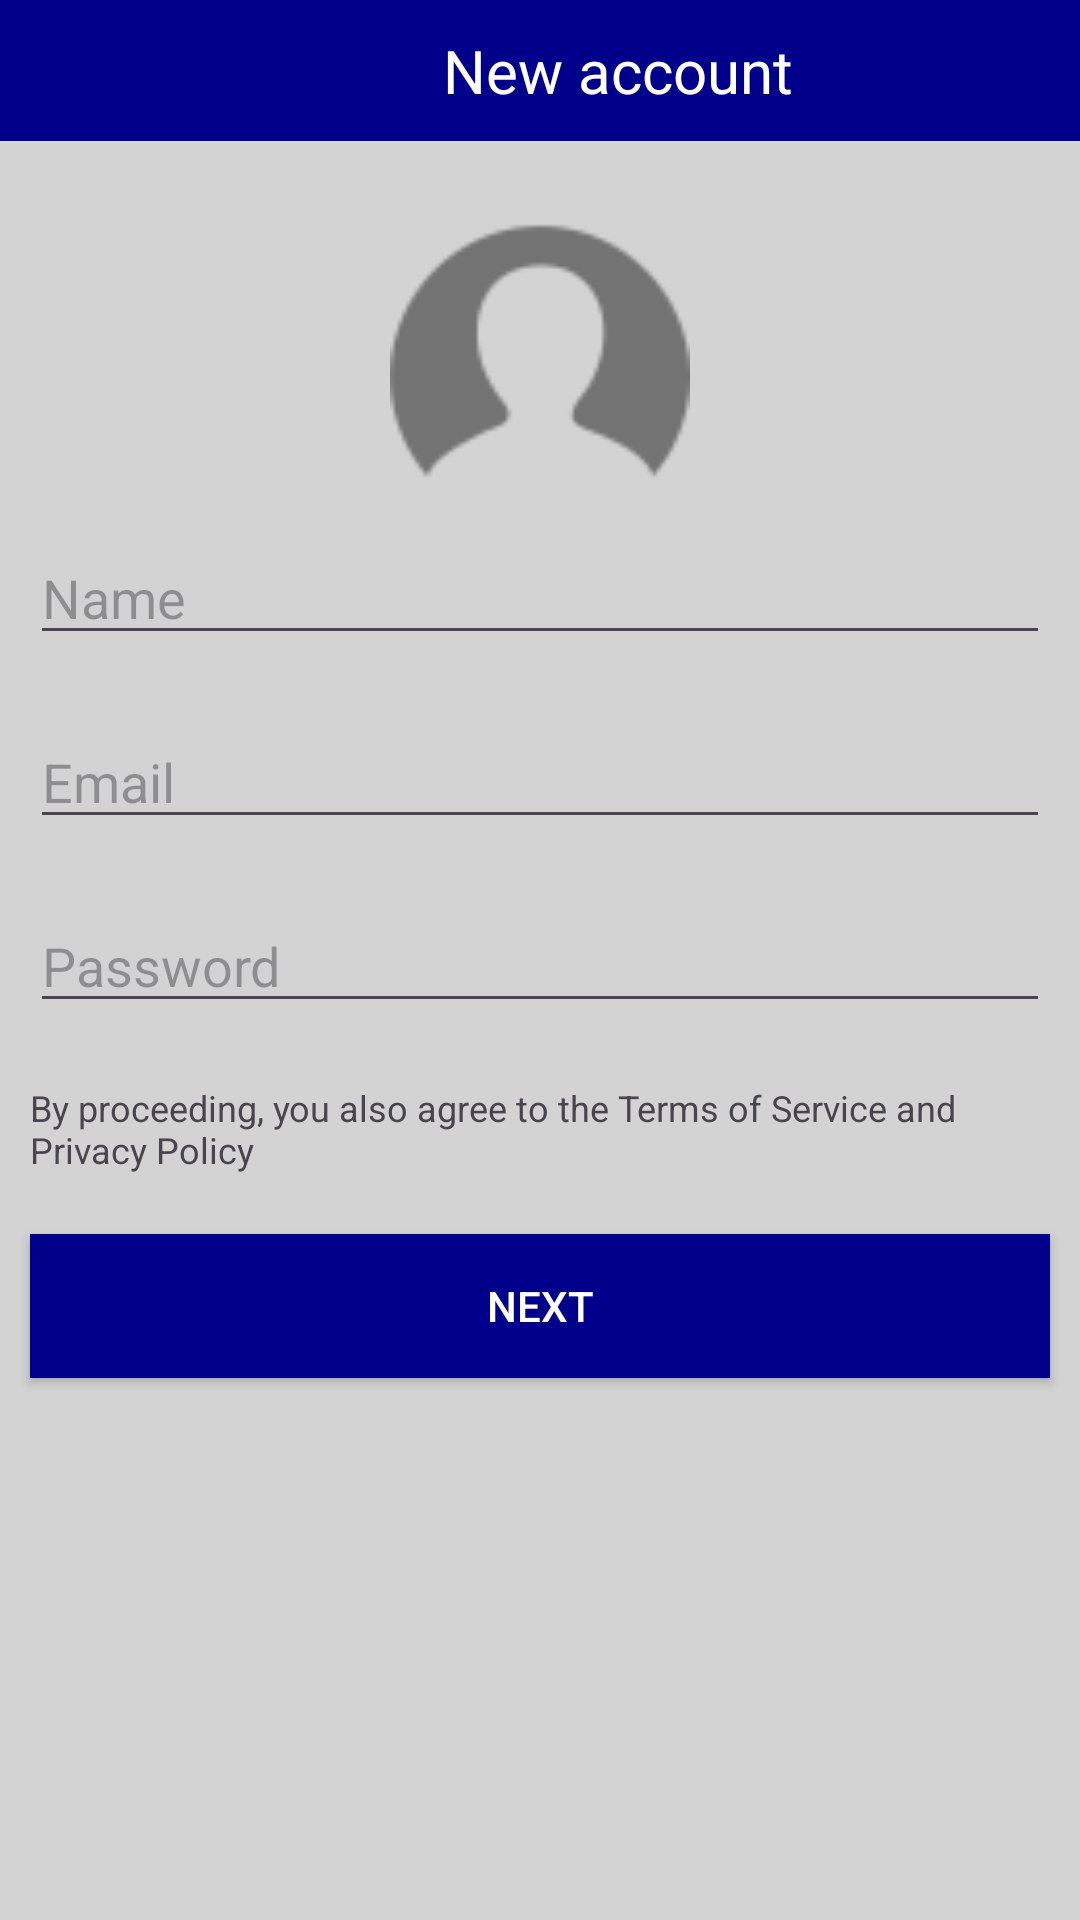

Named icons in this screenshot (1080w x 1920h) and their bounding boxes, {"left": x1, "top": y1, "right": x2, "bottom": y2}:
profile: {"left": 390, "top": 225, "right": 690, "bottom": 476}
